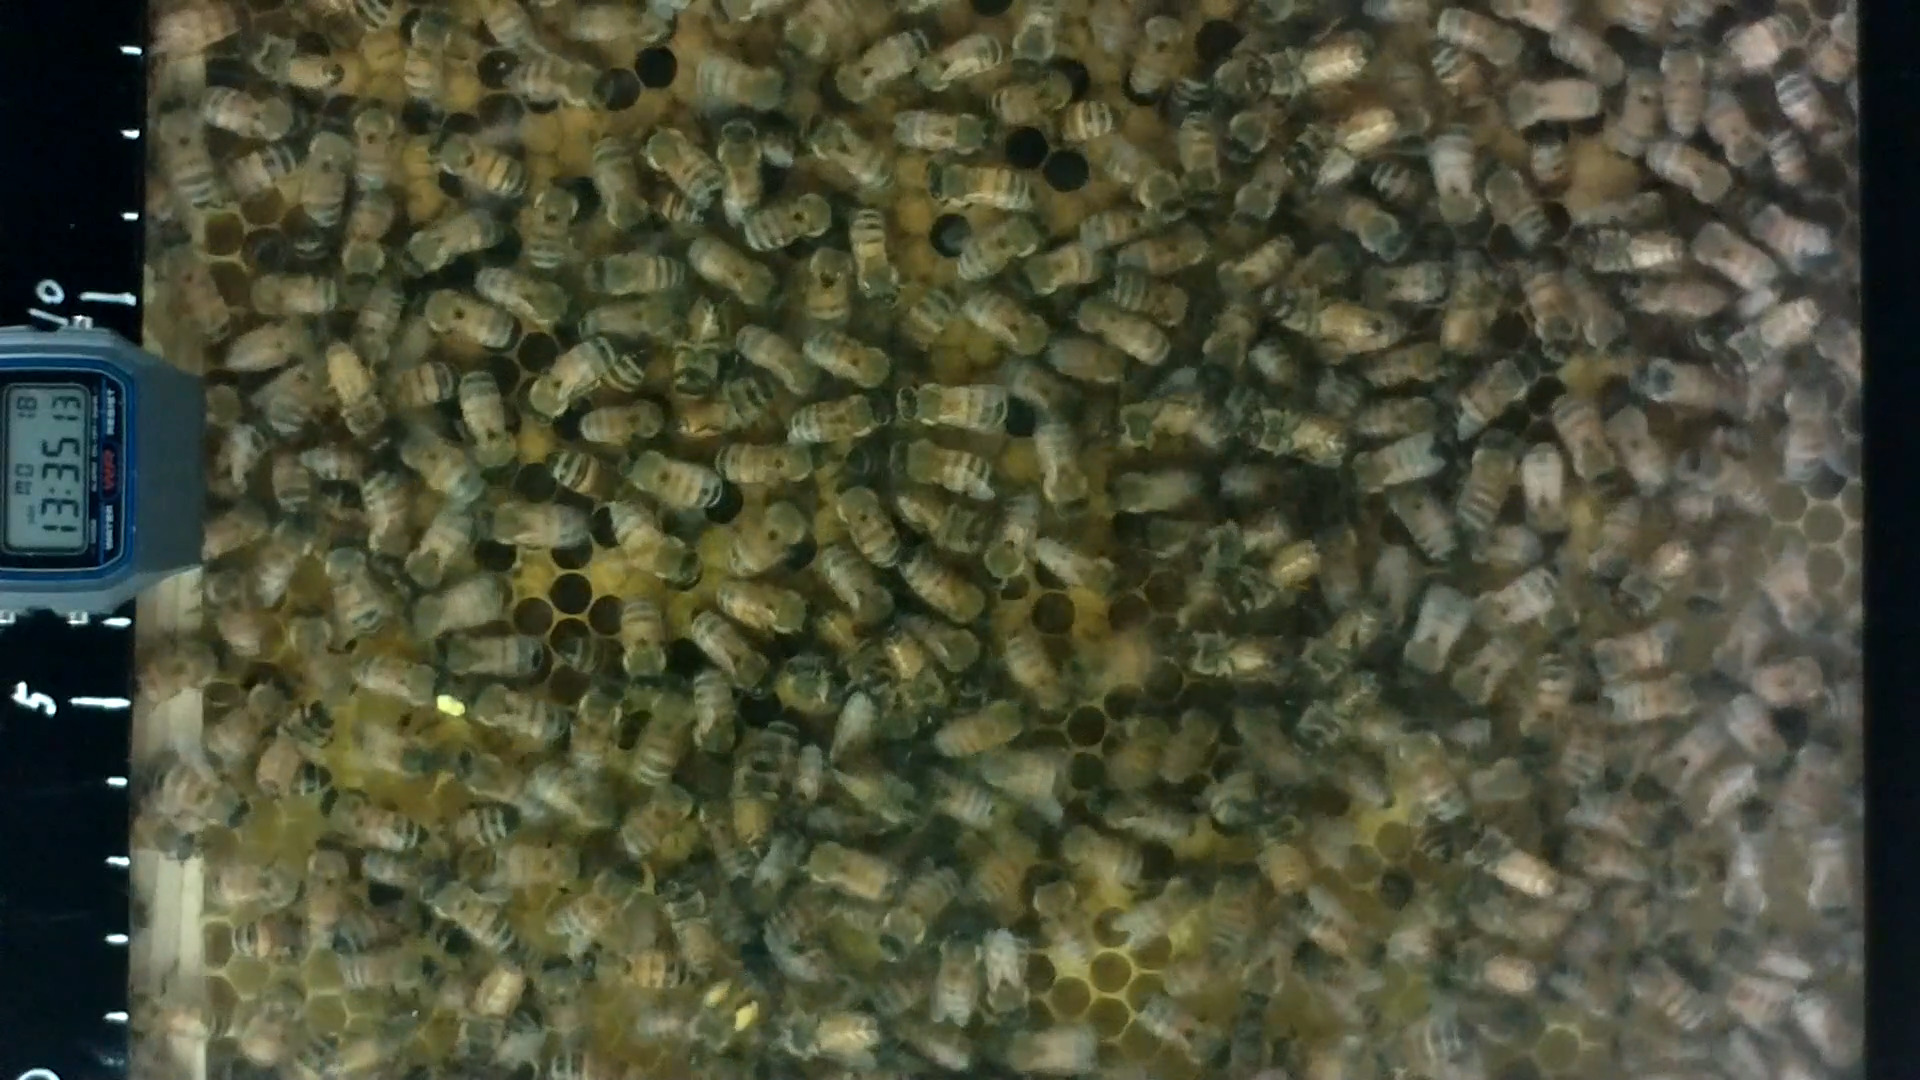hati: (891, 371, 1010, 451), (1029, 415, 1102, 531), (996, 626, 1079, 727), (1552, 385, 1621, 506), (152, 94, 218, 219), (600, 504, 695, 585), (913, 28, 1013, 104), (316, 786, 430, 853), (524, 342, 621, 419), (558, 865, 647, 949), (435, 127, 529, 207), (960, 285, 1054, 365), (798, 836, 902, 907), (731, 320, 823, 400), (422, 876, 516, 953), (415, 289, 506, 367), (338, 649, 442, 716), (480, 495, 592, 556), (1084, 785, 1191, 849), (636, 128, 721, 207), (316, 539, 386, 636), (583, 123, 638, 244), (400, 11, 465, 112), (806, 320, 895, 394), (465, 674, 560, 742), (618, 454, 731, 512), (799, 116, 887, 189), (922, 698, 1034, 754), (1345, 431, 1445, 495), (735, 496, 808, 582), (429, 628, 549, 680), (396, 578, 504, 634), (707, 582, 814, 638), (840, 476, 899, 578), (462, 369, 521, 469), (613, 596, 673, 692), (512, 57, 611, 113), (934, 920, 982, 1033), (920, 161, 1035, 208), (949, 212, 1029, 281), (1458, 433, 1513, 531), (687, 666, 744, 756), (299, 843, 348, 947), (887, 108, 990, 157), (737, 193, 829, 244), (584, 255, 687, 299), (301, 119, 342, 229), (204, 90, 305, 135), (688, 59, 775, 111), (525, 167, 572, 261), (357, 465, 407, 554), (342, 193, 380, 295), (721, 448, 818, 485)
